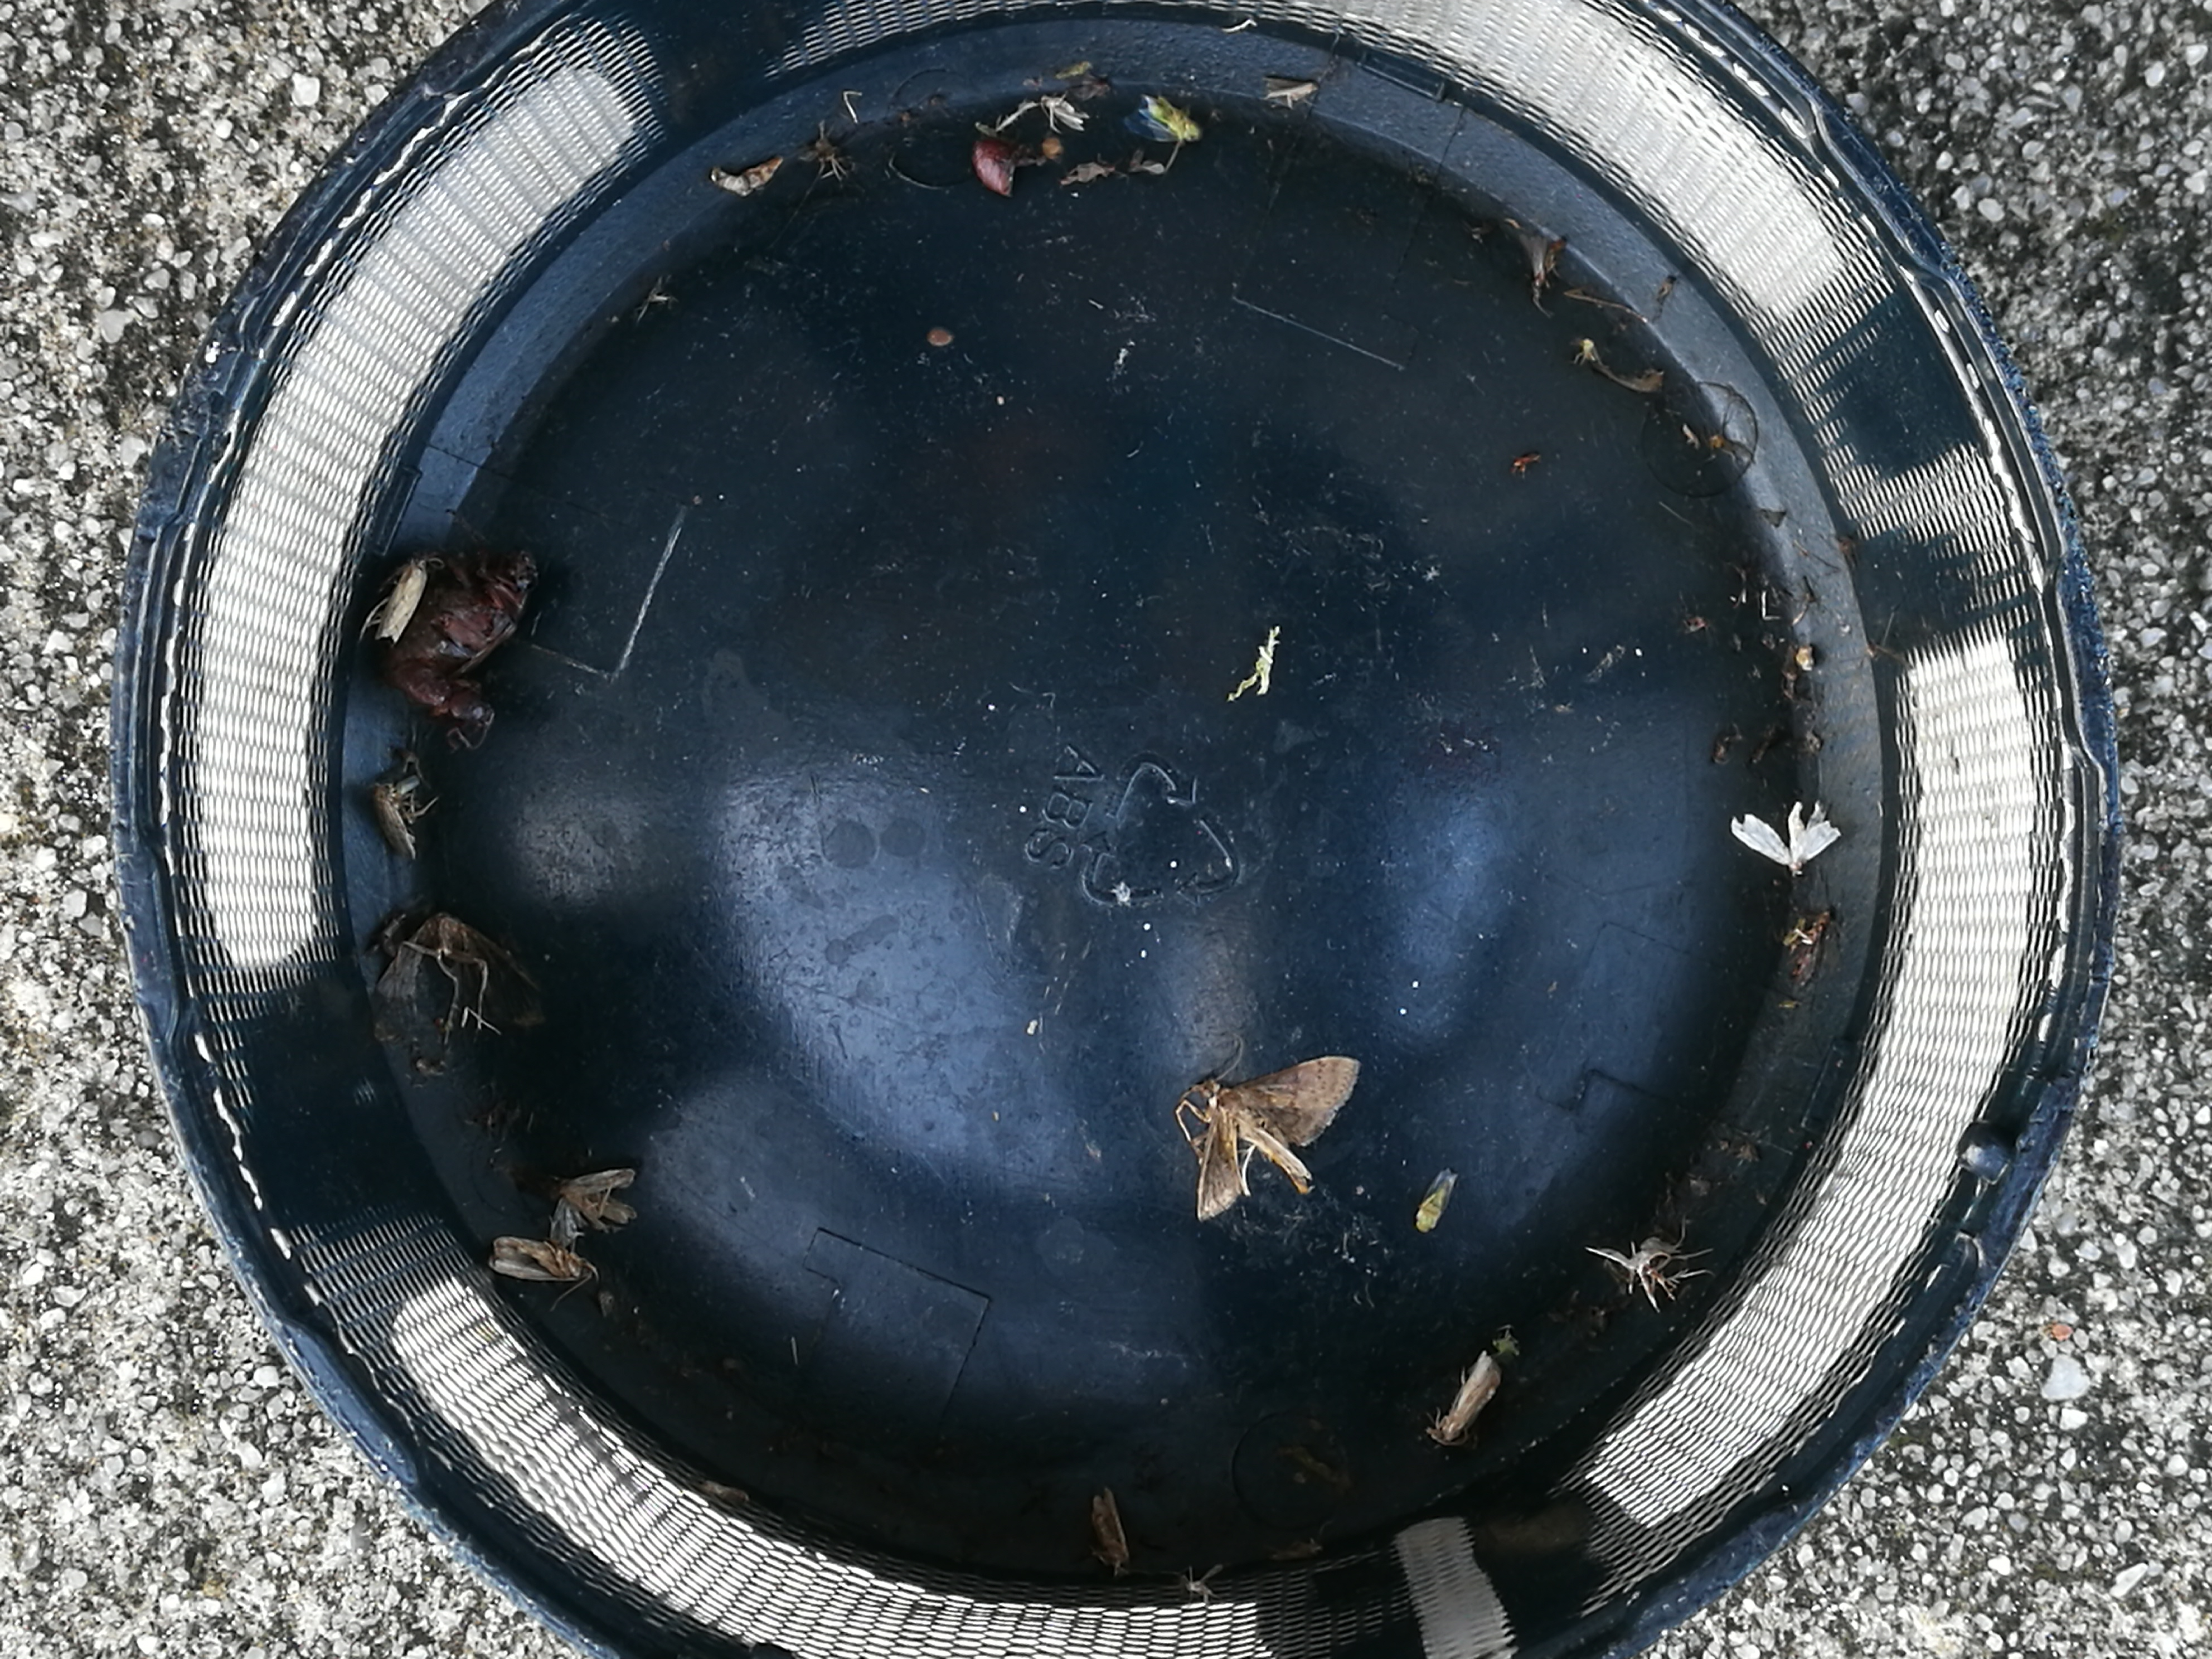beetle: (383, 551, 535, 685), (401, 662, 493, 720)
mosquito: (1430, 1351, 1500, 1441), (374, 558, 427, 641), (371, 781, 416, 857), (1092, 1488, 1127, 1568)
moth: (1197, 1058, 1359, 1218), (376, 911, 542, 1023), (1731, 800, 1841, 873), (554, 1168, 637, 1244), (489, 1236, 582, 1281)
